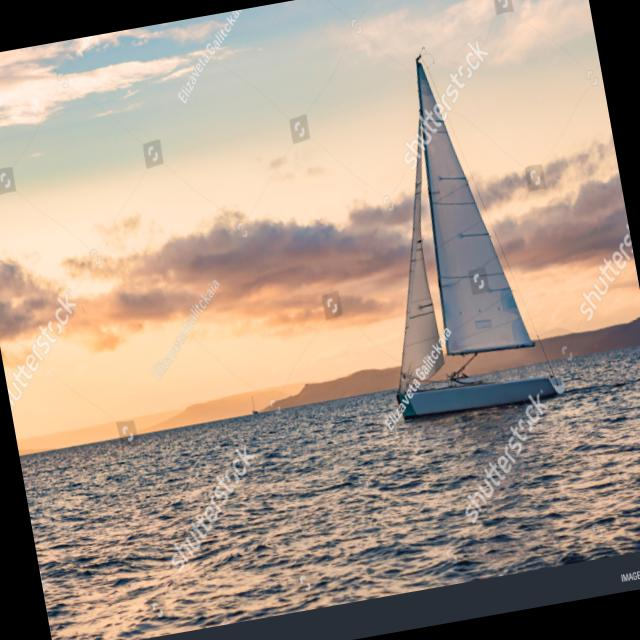boat: (330, 33, 570, 440)
